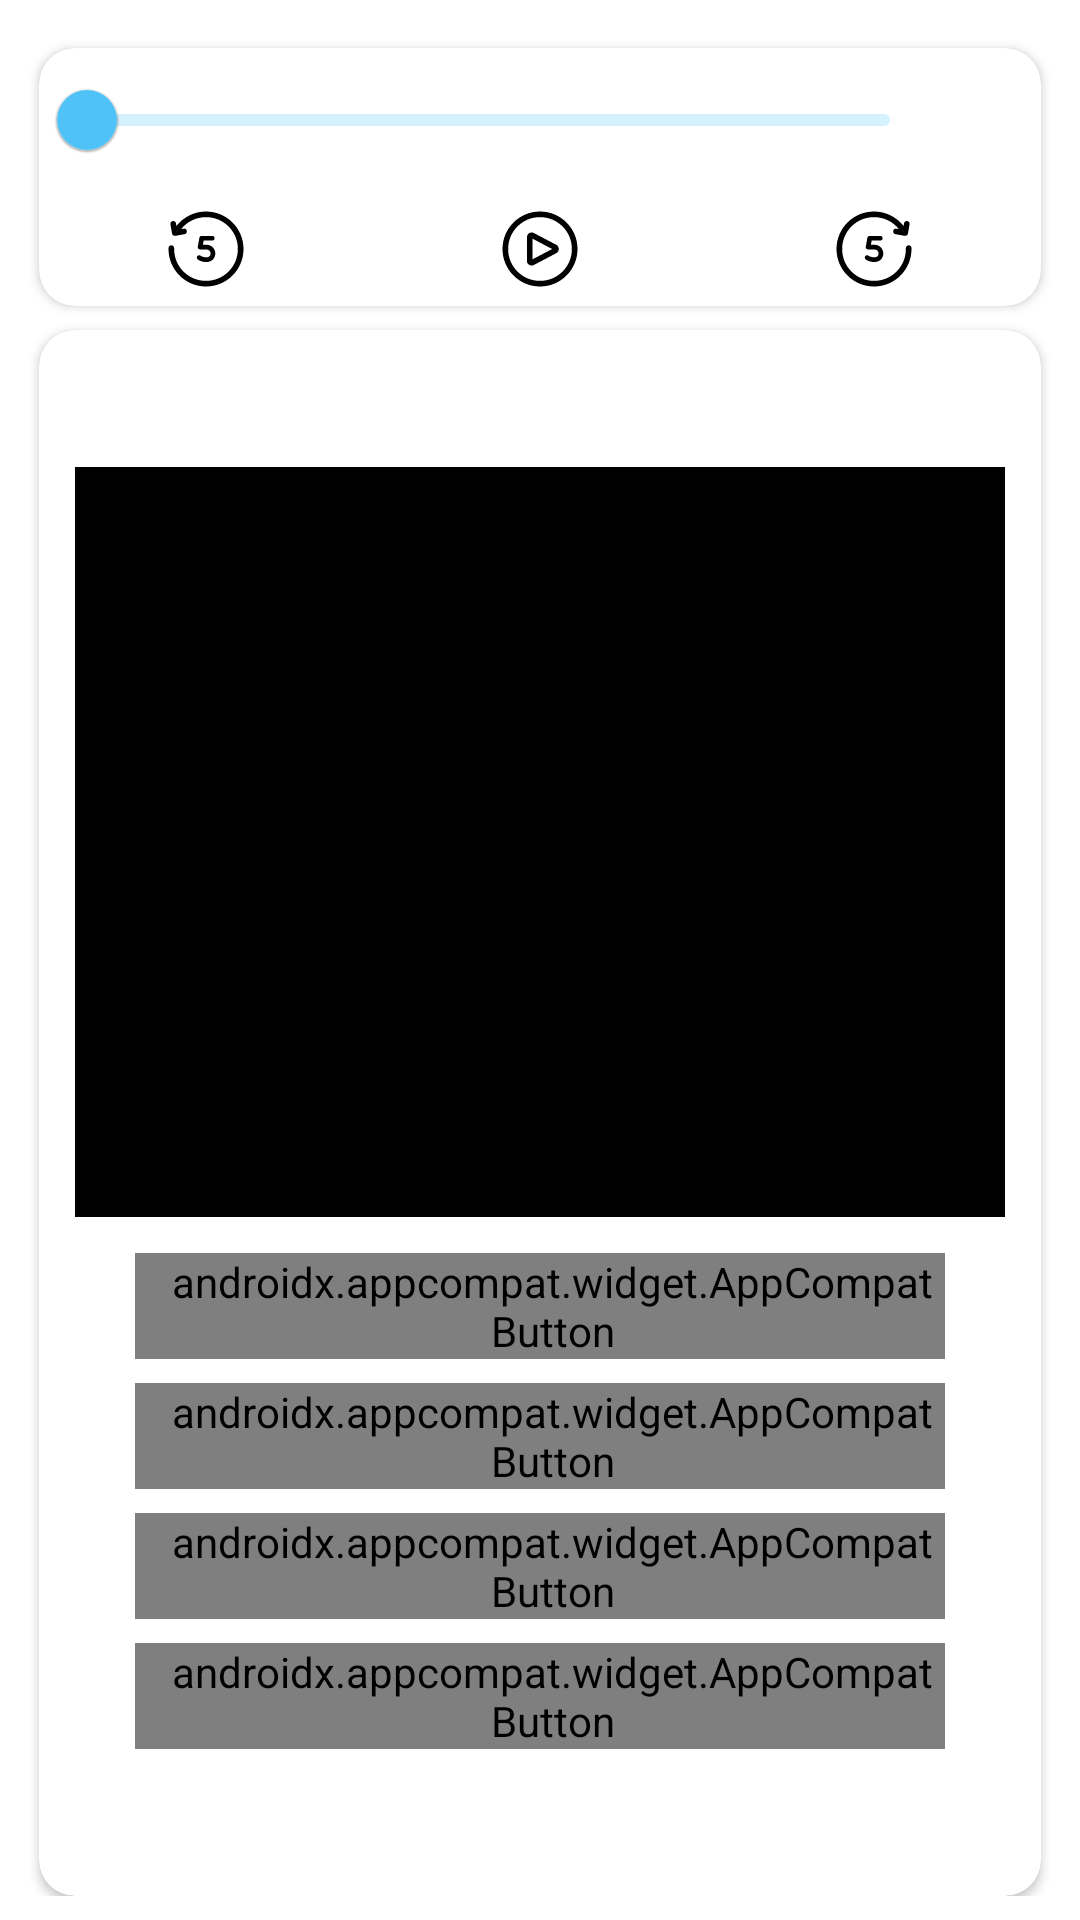

Icons on this 1080px×1920px Android screen, each with the point to tap as [x,y]:
backward: [206,249]
forward: [874,249]
play: [540,249]
